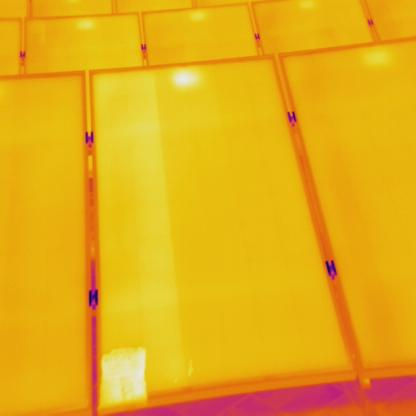hotspot: (100, 345, 152, 407), (170, 69, 210, 93)
